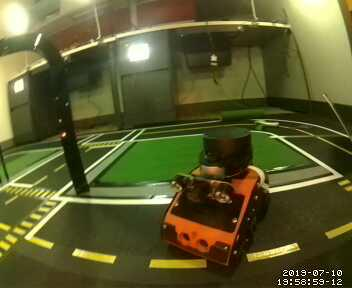pheeno: (161, 124, 270, 273)
